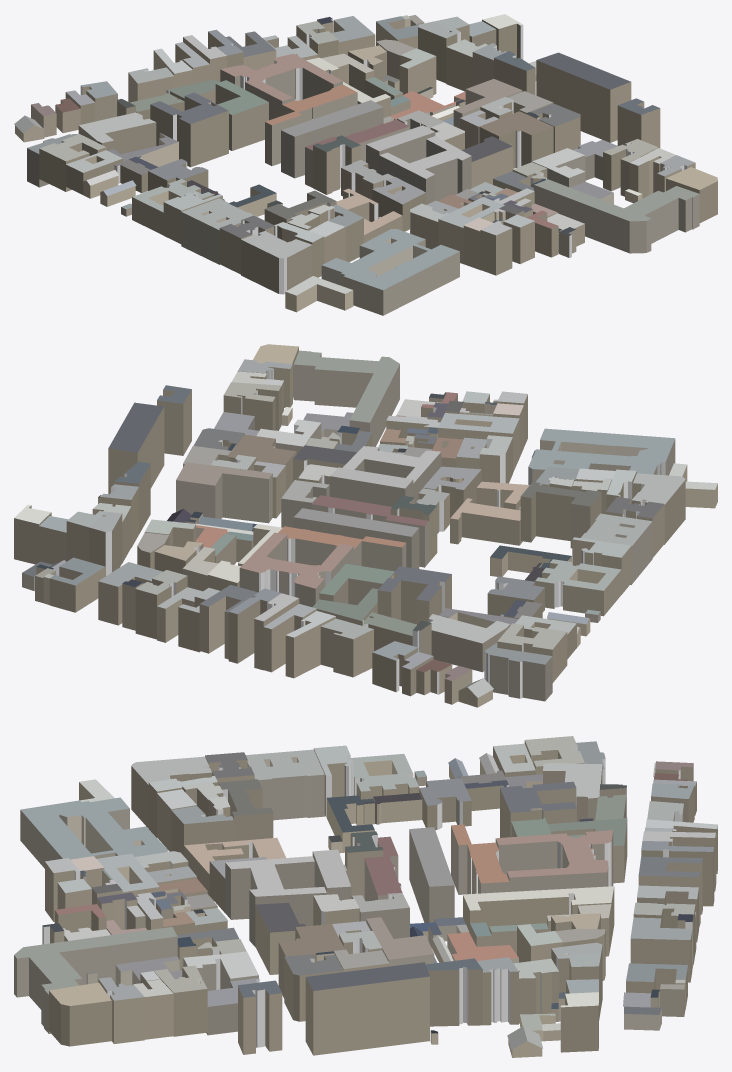
3 views of the same model, one above another, from view 1: azimuth 30°, elevation 25°; view 2: azimuth 150°, elevation 25°; view 3: azimuth 270°, elevation 25° (orthographic). The views are drawn at different scales.
Visible parts, largest first — view 1: tuile; view 2: tuile; view 3: tuile.
Boxes of the visible parts, x1,y1,x2,y2 form: tuile: (14,14,717,315); tuile: (14,344,717,707); tuile: (14,736,717,1057).
Size of the model in its own units: 270 by 34.8 by 278.
